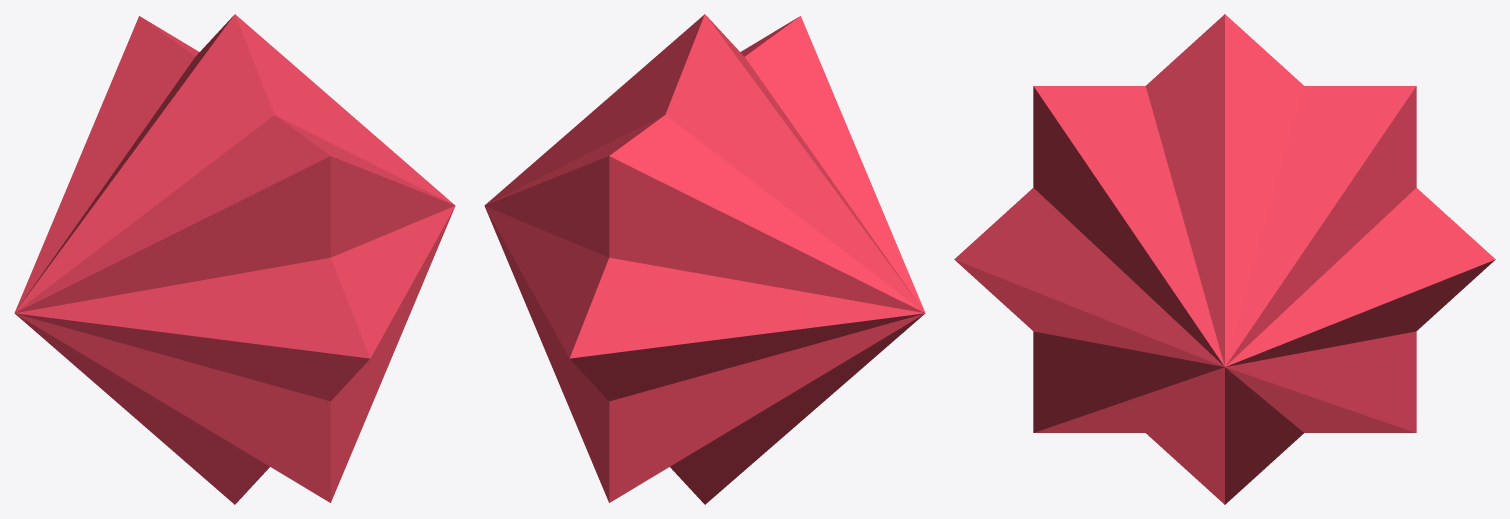
File: item_essence_defense.fbx
The picture shows the model from 3 angles, left to right: view 1: azimuth 30°, elevation 25°; view 2: azimuth 150°, elevation 25°; view 3: azimuth 270°, elevation 25°; orthographic projection.
Parts seen in each view (by area): view 1: Plane; view 2: Plane; view 3: Plane.
Boxes of the visible parts, x1,y1,x2,y2 form: Plane: (14, 14, 455, 504); Plane: (484, 14, 925, 504); Plane: (954, 14, 1495, 504).
Bounding box in the file's own units: 266 × 283 × 283.
